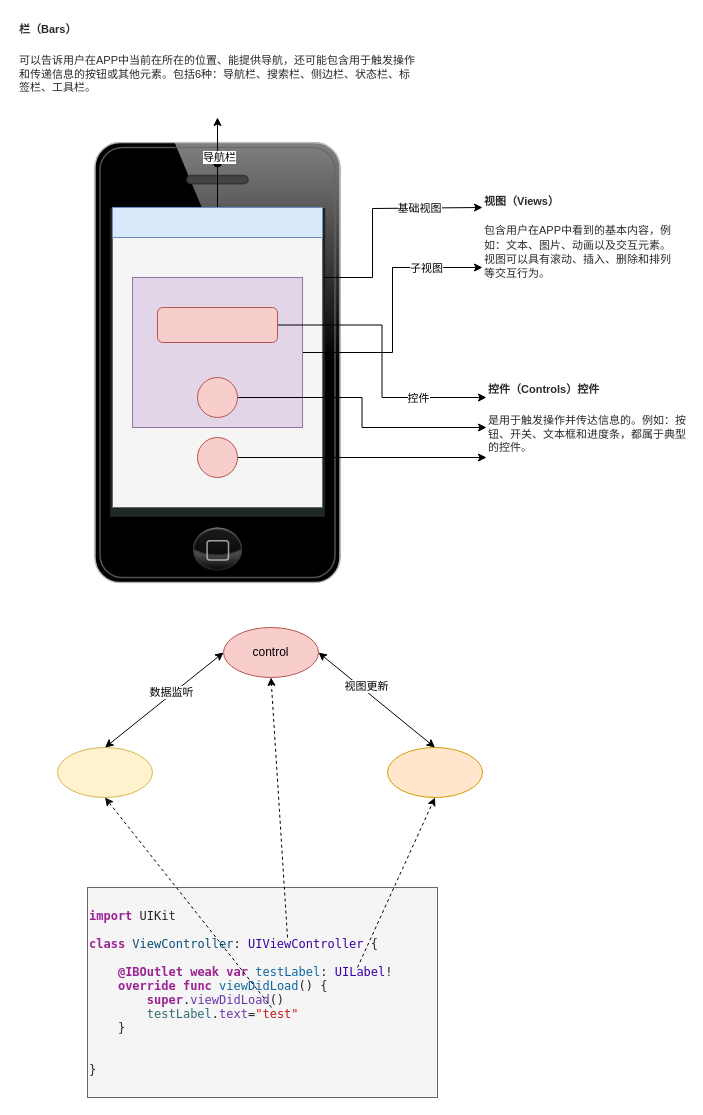
The diagram is 703 pixels wide and 1115 high, and some of its shapes have lost their labels. Here are the shapes that lost their labels. From the top down, the box of each, then its label:
(56, 746, 152, 798): model
(386, 746, 482, 798): view
